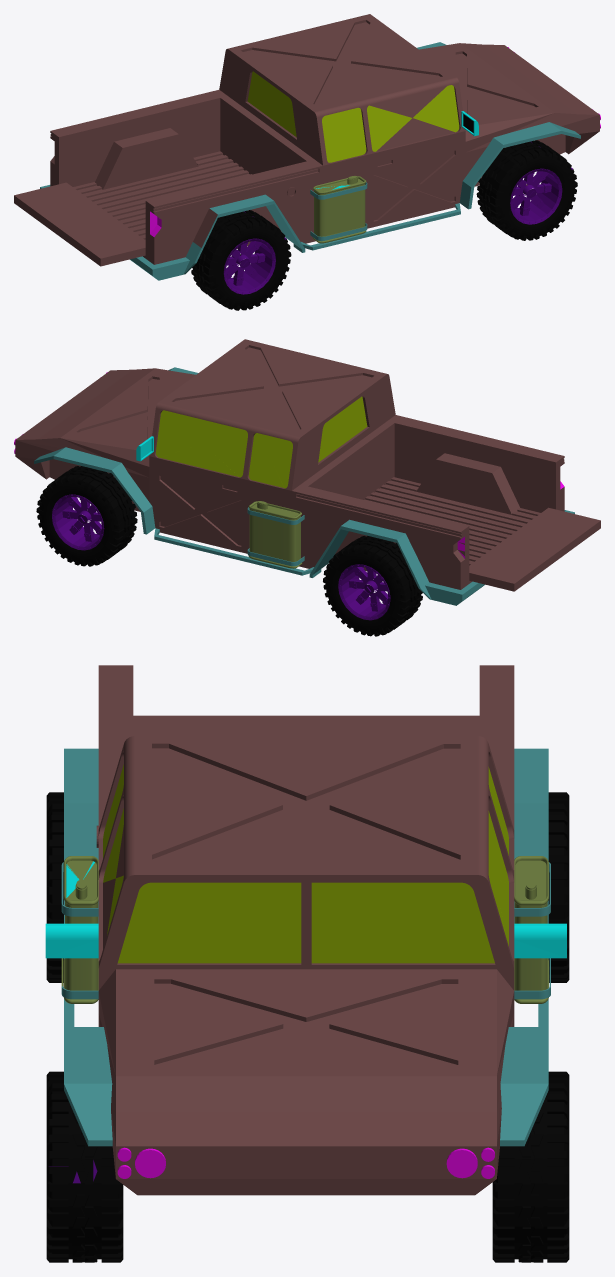
File: TruckBed.fbx
3 renders of one model, top to bottom at view 1: azimuth 30°, elevation 25°; view 2: azimuth 150°, elevation 25°; view 3: azimuth 270°, elevation 25°, orthographic. The views are drawn at different scales.
Parts seen in each view (by area): view 1: TruckBed; view 2: TruckBed; view 3: TruckBed.
Boxes of the visible parts, box(x1,y1,x2,y2) form: TruckBed: box(14, 14, 600, 310); TruckBed: box(14, 339, 600, 636); TruckBed: box(45, 665, 569, 1262).
Bounding box in the file's own units: 556 × 173 × 254.
